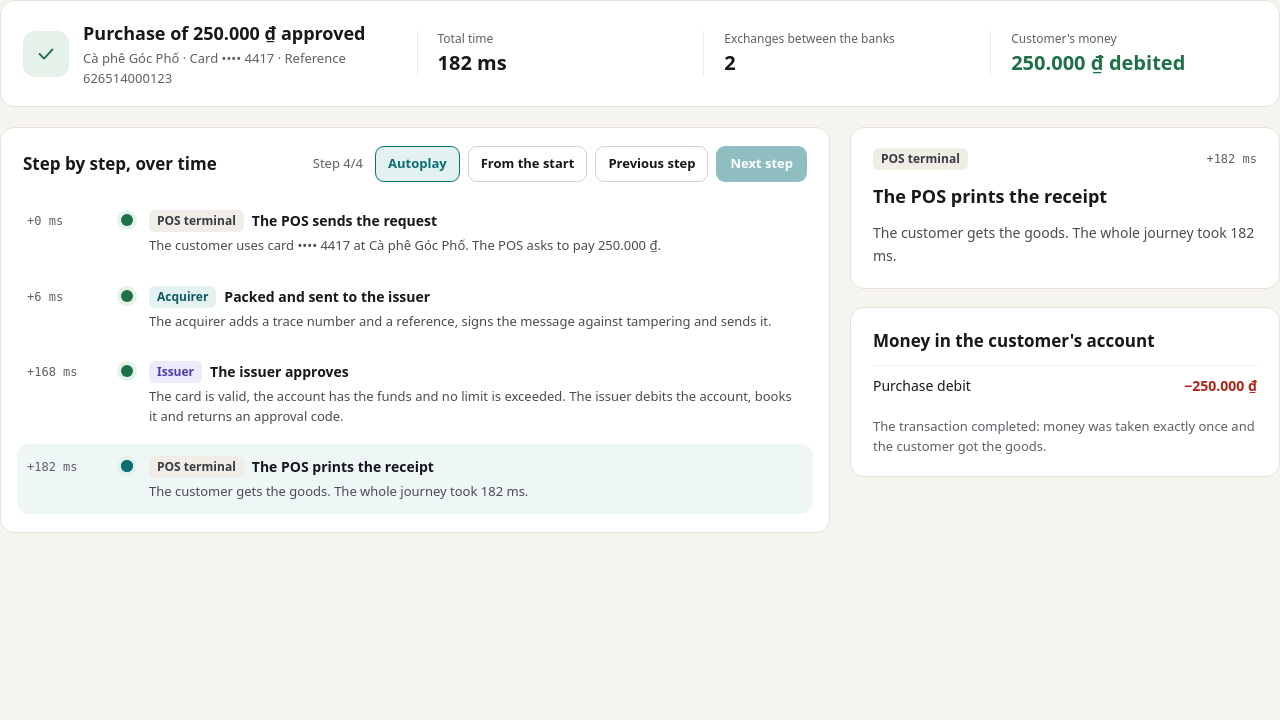
Test: JourneyView (MCN-307: summary, timeline, detail, money as in the design) › opens on the final step, renders each step's copy from its code, and shows its ISO message __MCN_307_AC1
Expected: the heading "The POS prints the receipt" is shown, [873, 184, 1107, 208]
What coordinates should you click on to do the following:
click the button named "."
I would click on:
 (415, 394)
Its box is [17, 349, 813, 438].
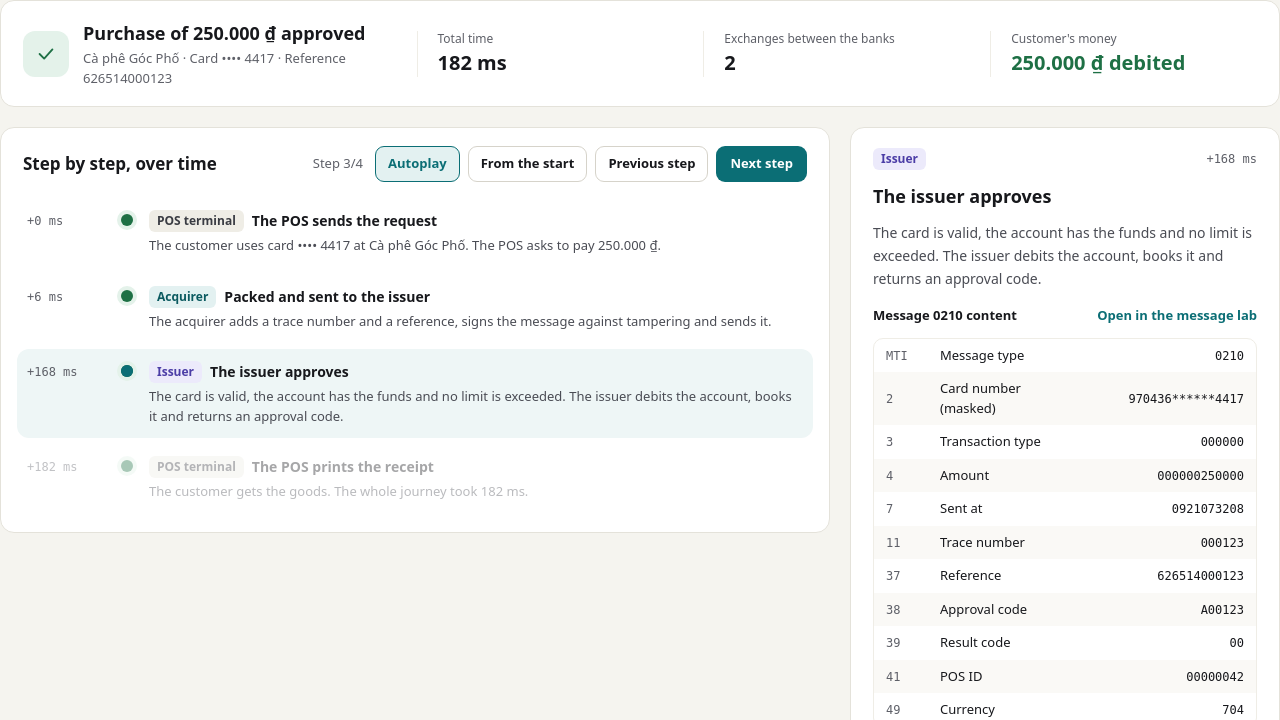
Now the heading "The issuer approves" is shown, box [873, 184, 1051, 208]
Now the text "Approval code" is shown, box [940, 600, 1027, 618]
Now the text "A00123" is shown, box [1201, 602, 1244, 616]
